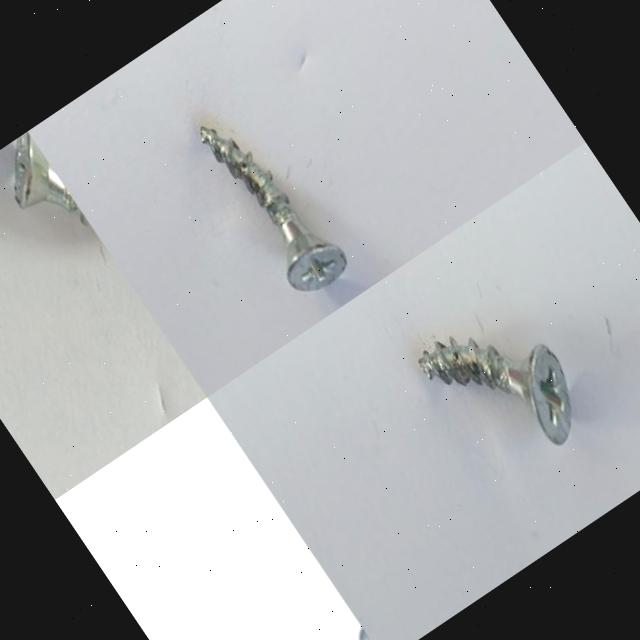Screw: (201, 126, 347, 292), (418, 337, 571, 445), (15, 131, 90, 225)
